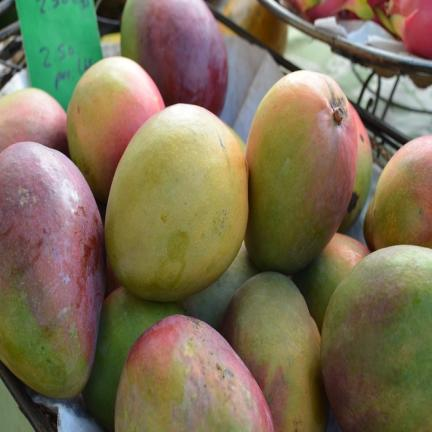mangoes: (106, 104, 248, 301), (0, 142, 105, 398), (245, 71, 357, 274), (322, 245, 431, 431), (115, 315, 273, 431), (221, 272, 328, 431), (82, 287, 182, 431), (67, 57, 164, 203), (121, 0, 227, 115), (292, 232, 370, 331), (364, 136, 431, 250), (179, 243, 259, 330), (0, 87, 68, 155), (338, 103, 373, 233), (224, 0, 288, 55), (380, 0, 431, 59), (306, 0, 374, 22), (285, 0, 320, 18), (105, 259, 121, 296), (226, 123, 245, 154), (105, 260, 121, 296), (98, 0, 125, 19)
